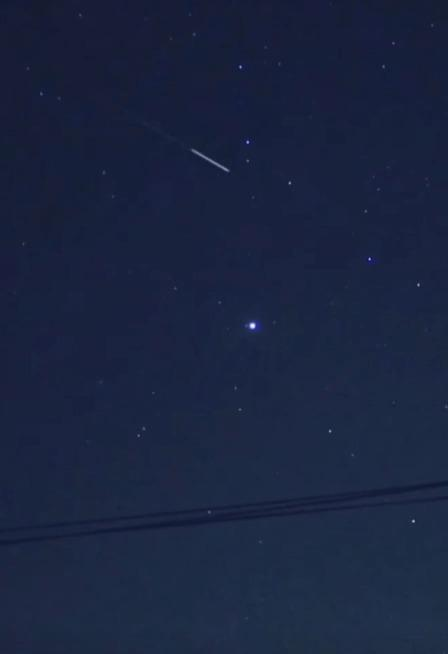meteorite: (176, 142, 246, 182)
